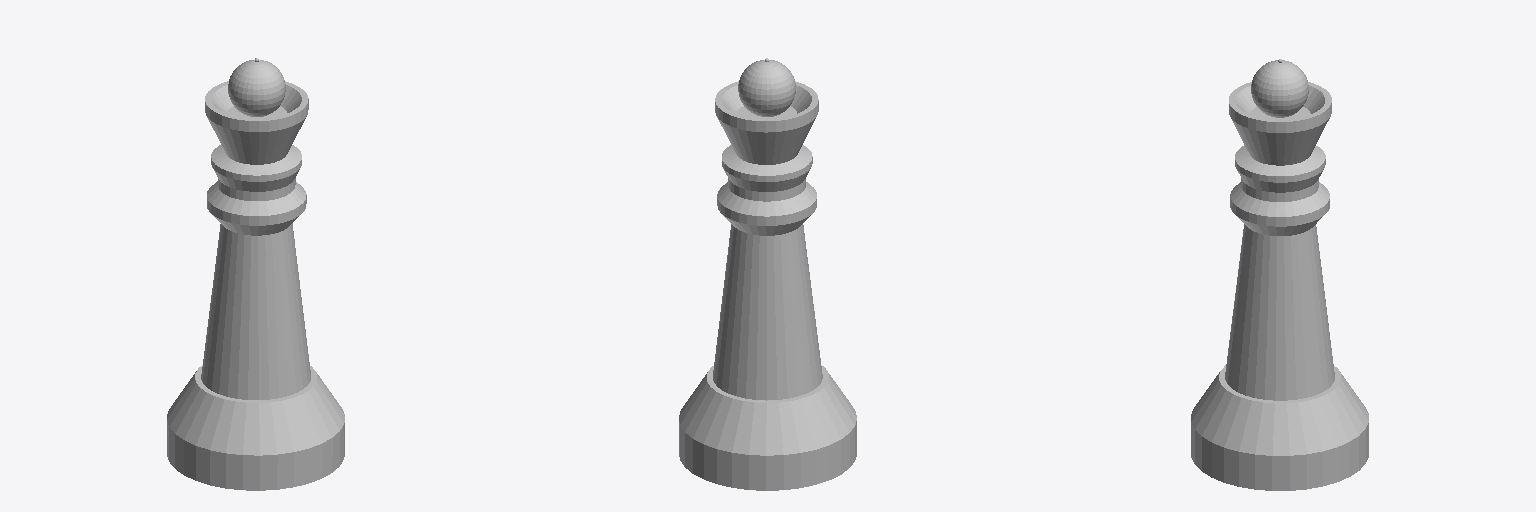
File: QueenChessSmooth.obj
3 views of the same model, side by side, from view 1: azimuth 30°, elevation 25°; view 2: azimuth 150°, elevation 25°; view 3: azimuth 270°, elevation 25° (orthographic).
Parts seen in each view (by area): view 1: Sphere; view 2: Sphere; view 3: Sphere.
Boxes of the visible parts, <box> form: Sphere: <box>167,58,344,490</box>; Sphere: <box>679,58,856,490</box>; Sphere: <box>1191,59,1368,490</box>.
Size of the model in its own units: 1.99 by 4.88 by 1.99.